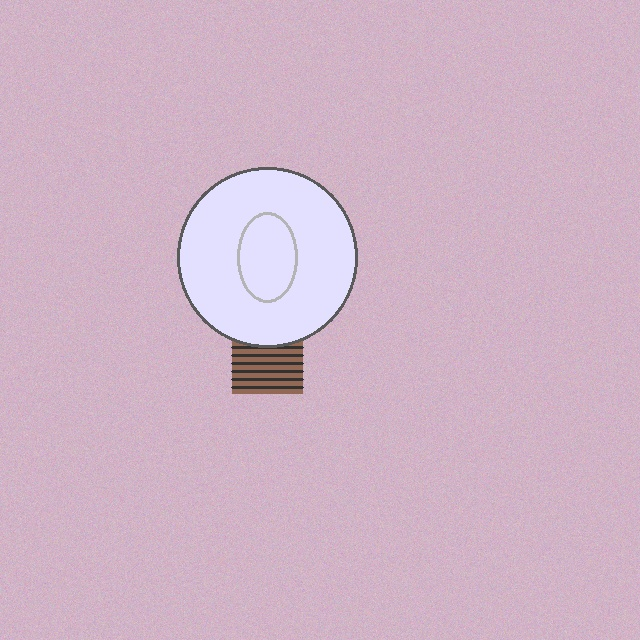bulb: (173, 163, 361, 398)
